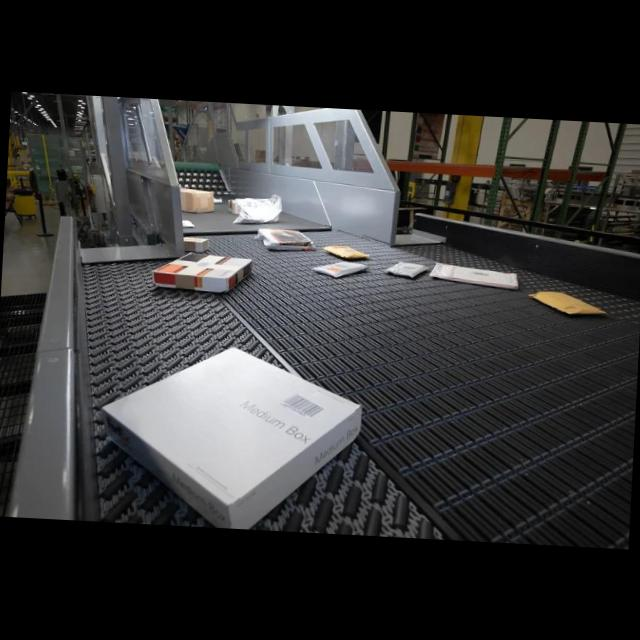box: (102, 347, 361, 529), (153, 252, 252, 291), (180, 188, 213, 212)
mailer: (430, 262, 518, 288), (529, 290, 605, 313), (234, 194, 281, 222), (258, 228, 312, 249), (313, 261, 367, 277), (385, 261, 427, 277), (324, 245, 369, 258), (184, 237, 208, 252), (183, 219, 194, 227)
